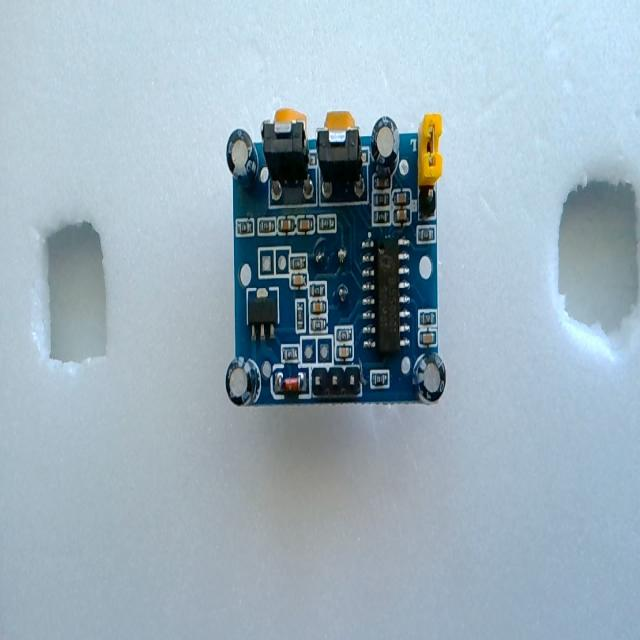Electrolytic capacitor: (410, 346, 451, 411), (225, 119, 259, 194), (226, 352, 262, 416), (369, 111, 401, 182)
IC: (362, 234, 413, 353)
pinheader: (310, 364, 364, 402)
